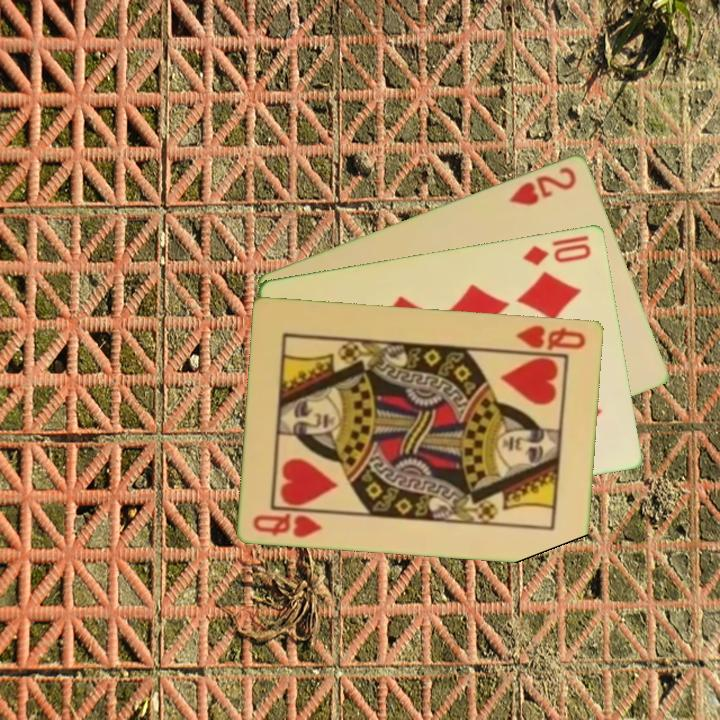10d: (520, 231, 594, 268)
2h: (506, 162, 580, 208)
Qh: (250, 506, 326, 540), (513, 321, 589, 353)
